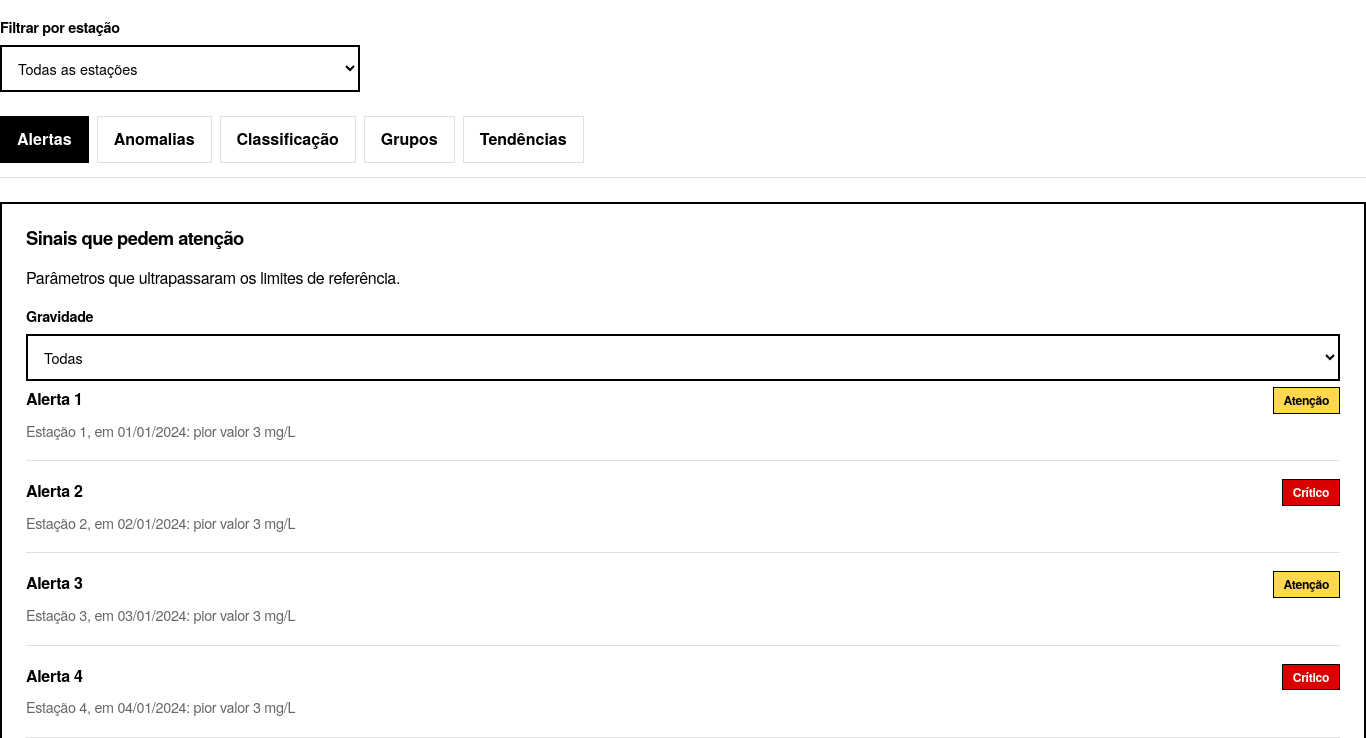
Test: exploração de análises extensas › limita episódios a dez, preserva o filtro global e reinicia o limite ao trocar estação
Click the tab "Anomalias": x=154, y=140 [97,116,212,163]
(page scrolled)
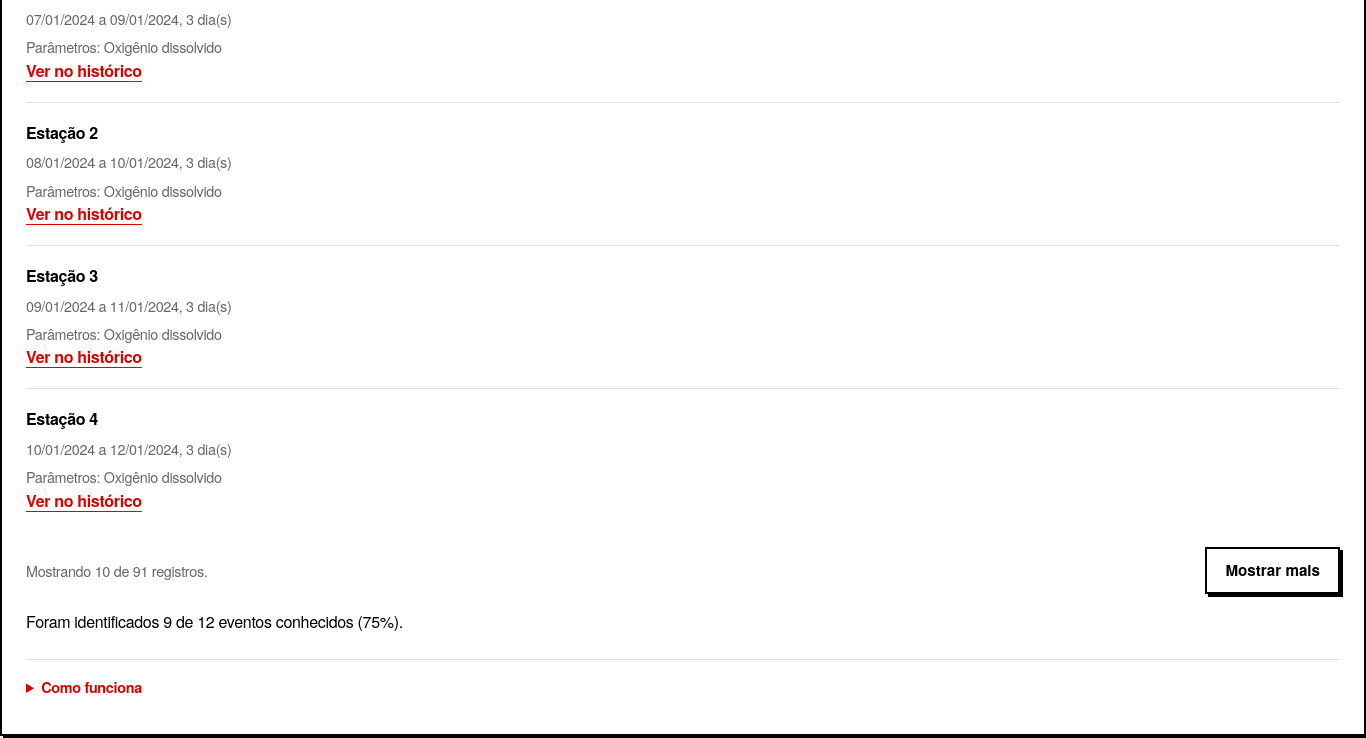
Expected: the text "Mostrando 10 de 91 registros." is shown, [26,560,208,582]
Click the button "Mostrar mais": x=1273, y=571 [1205,547,1340,594]
(page scrolled)
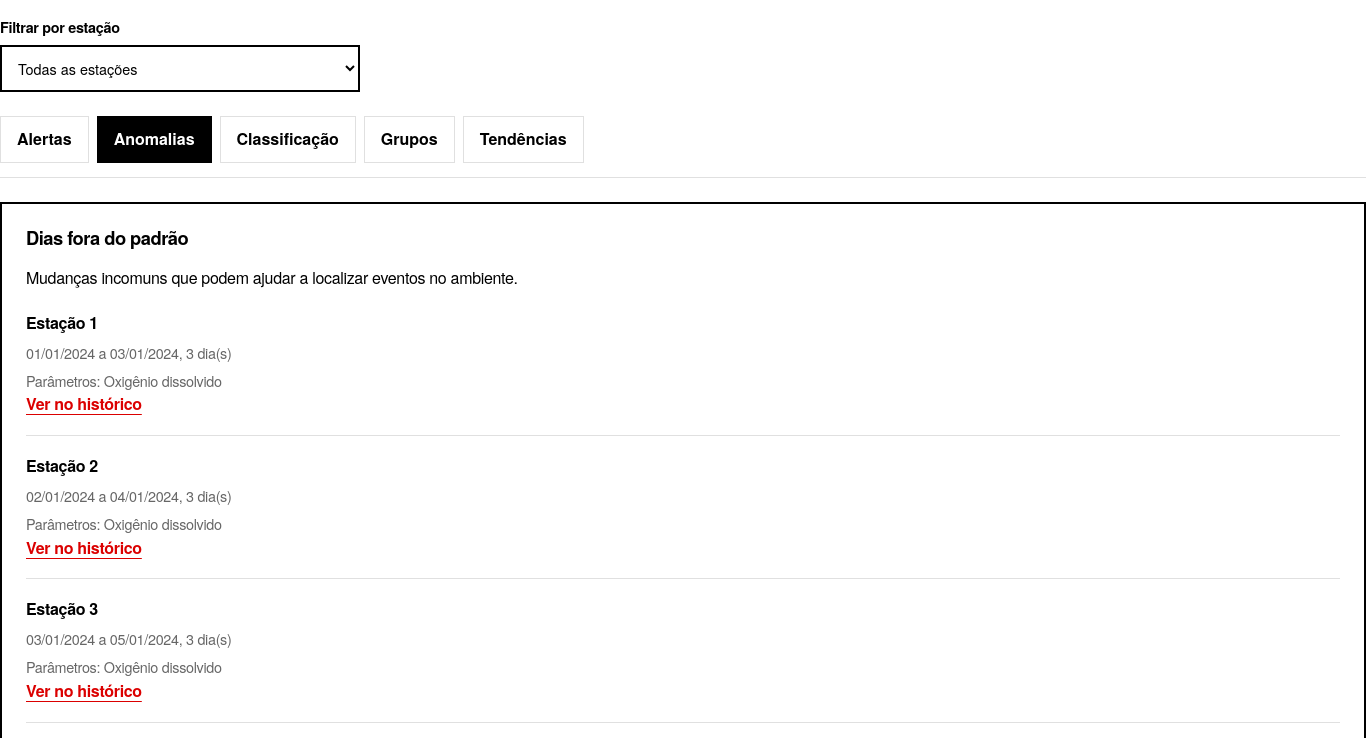
Expected: the number of list items is 20
Select "Estação 1" in the dropdown labelled "Filtrar por estação": x=180, y=69 [0,45,360,92]
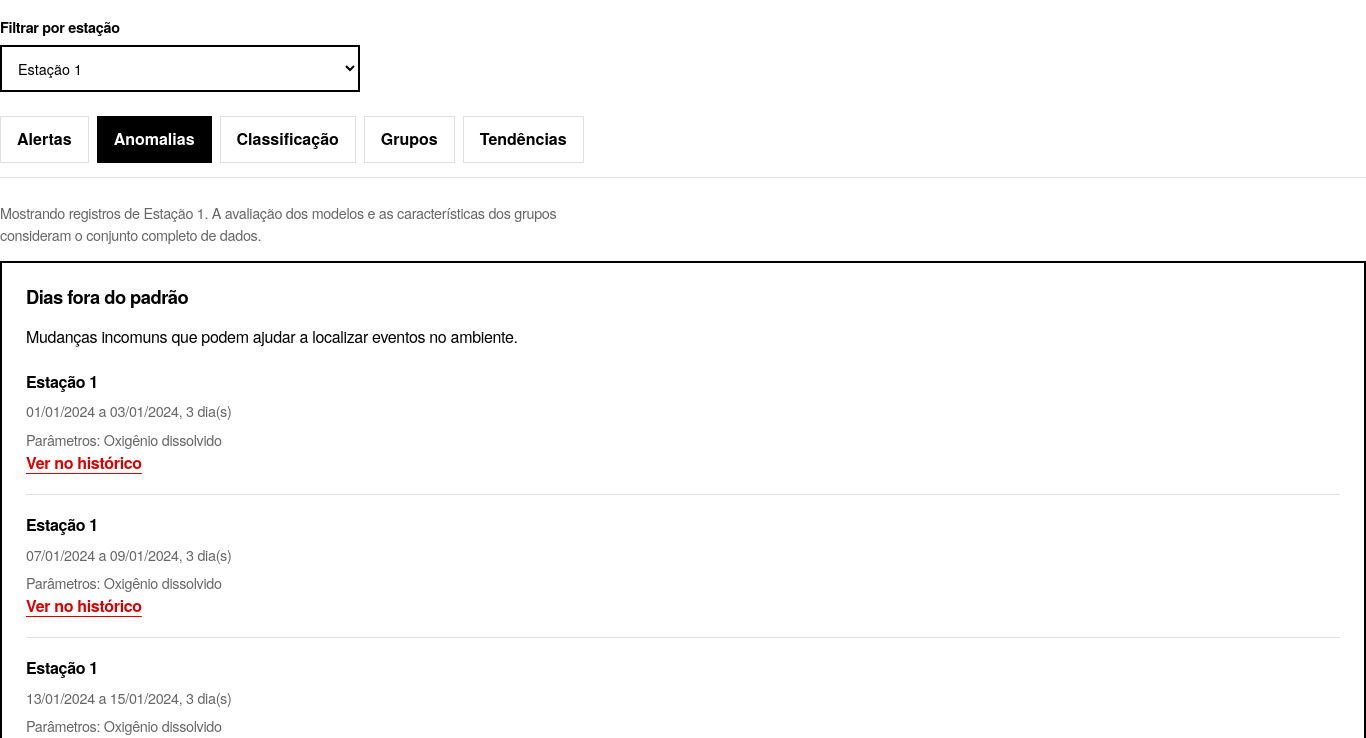
Expected: the text "Estação 2" is gone
Click the tab "Classificação": x=288, y=140 [220,116,356,163]
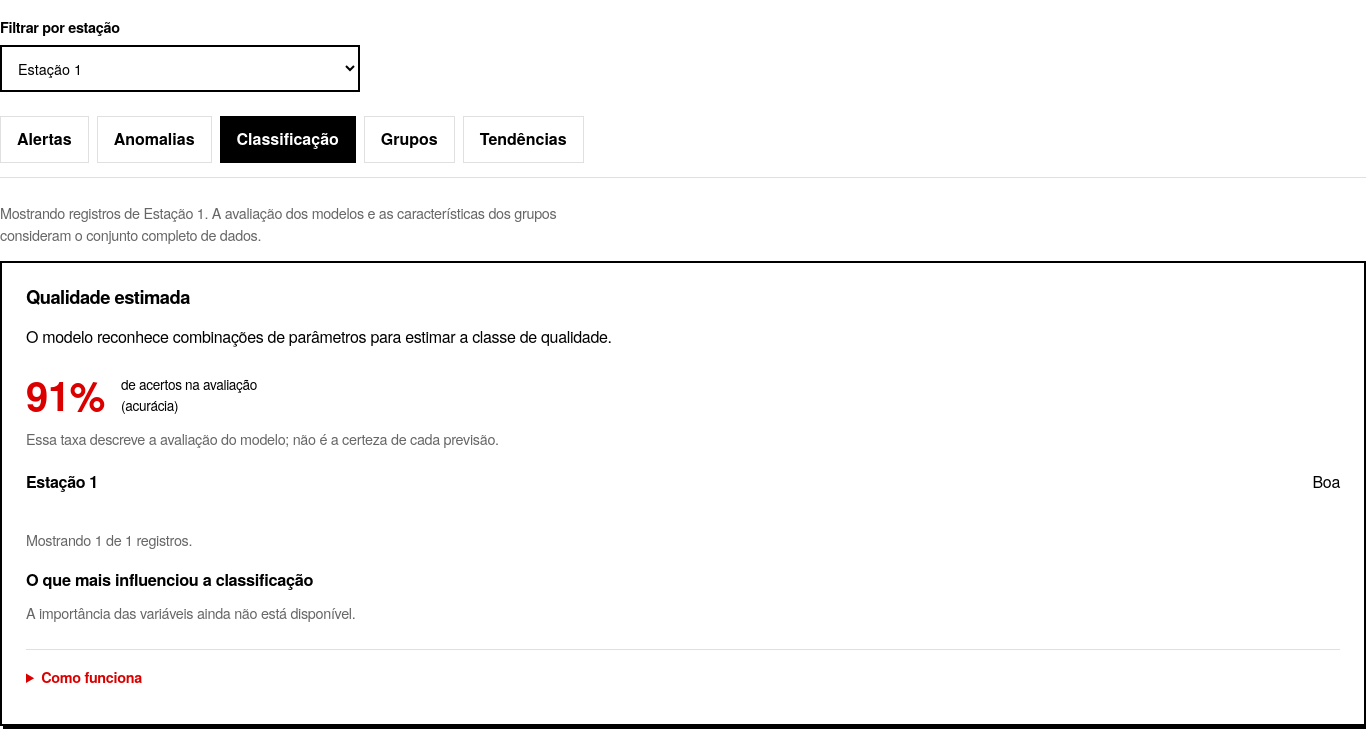
Expected: the text "Estação 1" is shown, [26,470,98,495]
Expected: the number of list items is 1, [26,470,1340,493]
Click the tab "Alertas": x=44, y=140 [0,116,89,163]
(page scrolled)
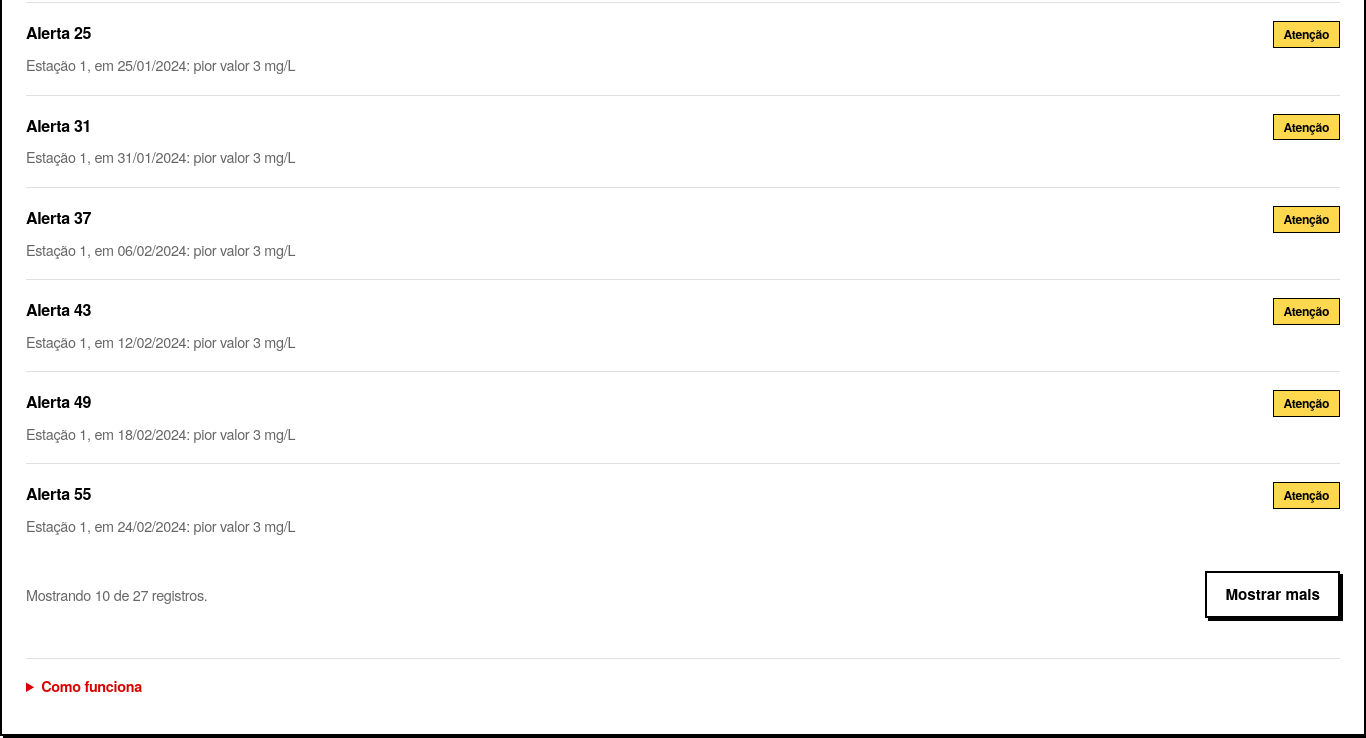
Expected: the text "Mostrando 10 de 27 registros." is shown, [26,584,208,606]
